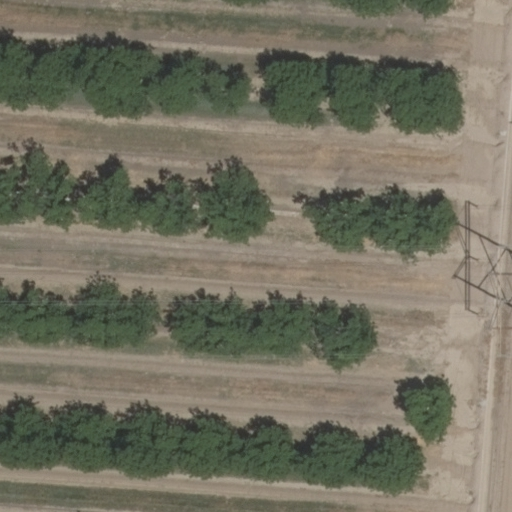TT: (453, 215, 512, 308)
